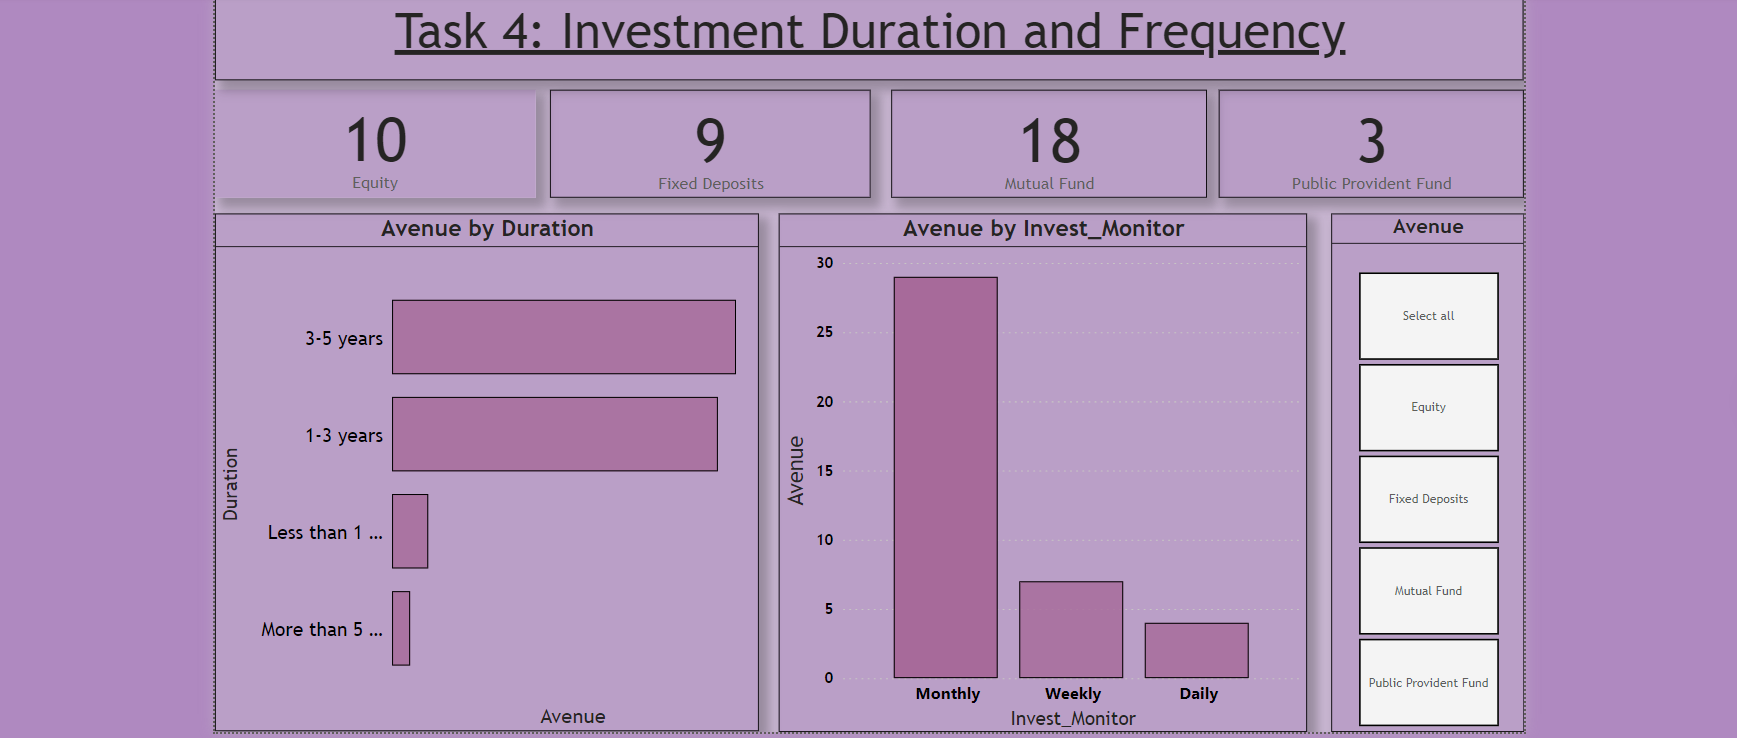

The dashboard page shown, as its layout file describes it:
{"tool":"powerbi","page":{"name":"Investment Duration and Frequency","canvas":[1280,720],"ordinal":0},"visuals":[{"type":"textbox","box":[0,0,1280,82.2],"z":0},{"type":"barChart","fields":{"Category":["Data_set 2.Duration"],"Y":["CountNonNull(Data_set 2.Avenue)"]},"box":[0,213.1,531.8,506.6],"z":1000},{"type":"lineClusteredColumnComboChart","fields":{"Category":["Data_set 2.Invest_Monitor"],"Y":["CountNonNull(Data_set 2.Avenue)"]},"box":[551.4,212.9,517.1,507.1],"z":2000},{"type":"slicer","title":"Avenue","fields":{"Values":["Data_set 2.Avenue"]},"box":[1091.4,212.9,188.6,507.1],"z":3000},{"type":"card","fields":{"Values":["Data_set 2.Equity"]},"box":[0,92.3,313.7,105.7],"z":4000},{"type":"card","fields":{"Values":["Data_set 2.Mutual Fund"]},"box":[661,92.3,308.7,105.7],"z":5000},{"type":"card","fields":{"Values":["Data_set 2.Public Provident Fund"]},"box":[981.4,92.3,298.6,105.7],"z":6000},{"type":"card","fields":{"Values":["Data_set 2.Fixed Deposits"]},"box":[327.1,92.3,313.7,105.7],"z":7000}]}

Visuals, with their boxes in screenshot pixels (x1, y1, x2, y2):
textbox: locate(208, 0, 1548, 45)
barChart - Data_set 2.Duration x CountNonNull(Data_set 2.Avenue): locate(208, 182, 765, 713)
lineClusteredColumnComboChart - Data_set 2.Invest_Monitor x CountNonNull(Data_set 2.Avenue): locate(785, 182, 1327, 713)
"Avenue" slicer: locate(1351, 182, 1548, 713)
card - Data_set 2.Equity: locate(208, 56, 537, 167)
card - Data_set 2.Mutual Fund: locate(900, 56, 1223, 167)
card - Data_set 2.Public Provident Fund: locate(1236, 56, 1548, 167)
card - Data_set 2.Fixed Deposits: locate(551, 56, 879, 167)
